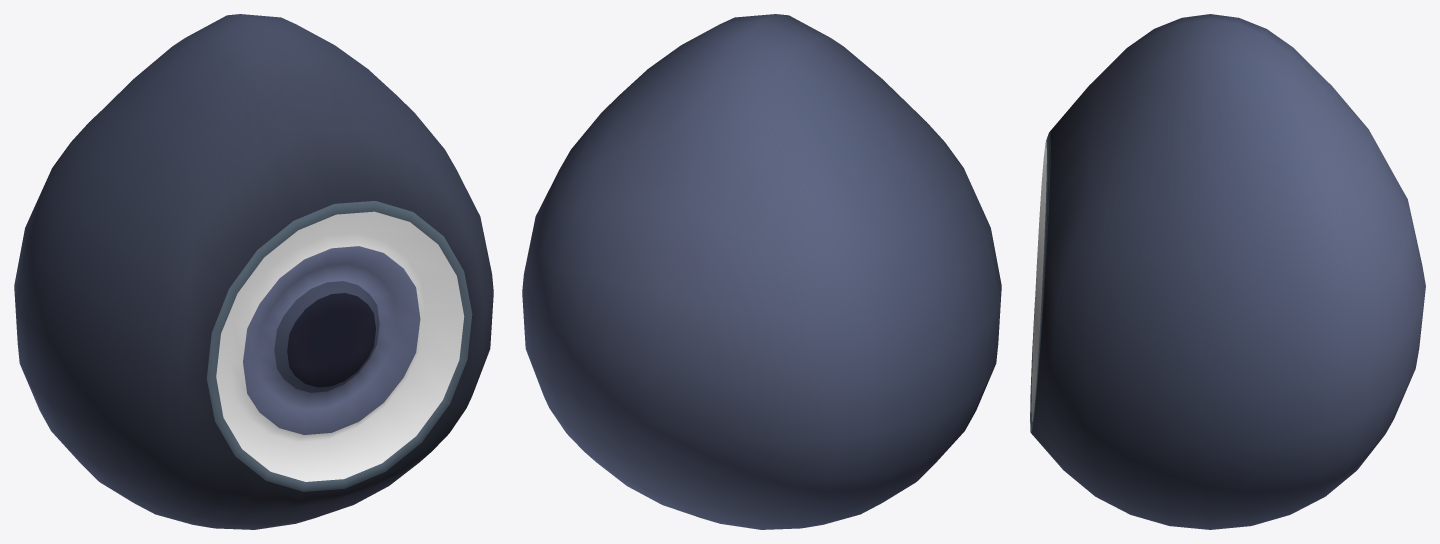
The model's file is MS_Diamond01_Boss03.fbx.
3 views of the same model, side by side, from view 1: azimuth 30°, elevation 25°; view 2: azimuth 150°, elevation 25°; view 3: azimuth 270°, elevation 25° (orthographic).
Parts seen in each view (by area): view 1: MS_Diamond01_Boss03; view 2: MS_Diamond01_Boss03; view 3: MS_Diamond01_Boss03.
Boxes of the visible parts, left/top/right/bottom form: MS_Diamond01_Boss03: left=14, top=14, right=493, bottom=529; MS_Diamond01_Boss03: left=522, top=14, right=1001, bottom=529; MS_Diamond01_Boss03: left=1030, top=14, right=1425, bottom=529.
Size of the model in its own units: 104 by 117 by 86.56.
